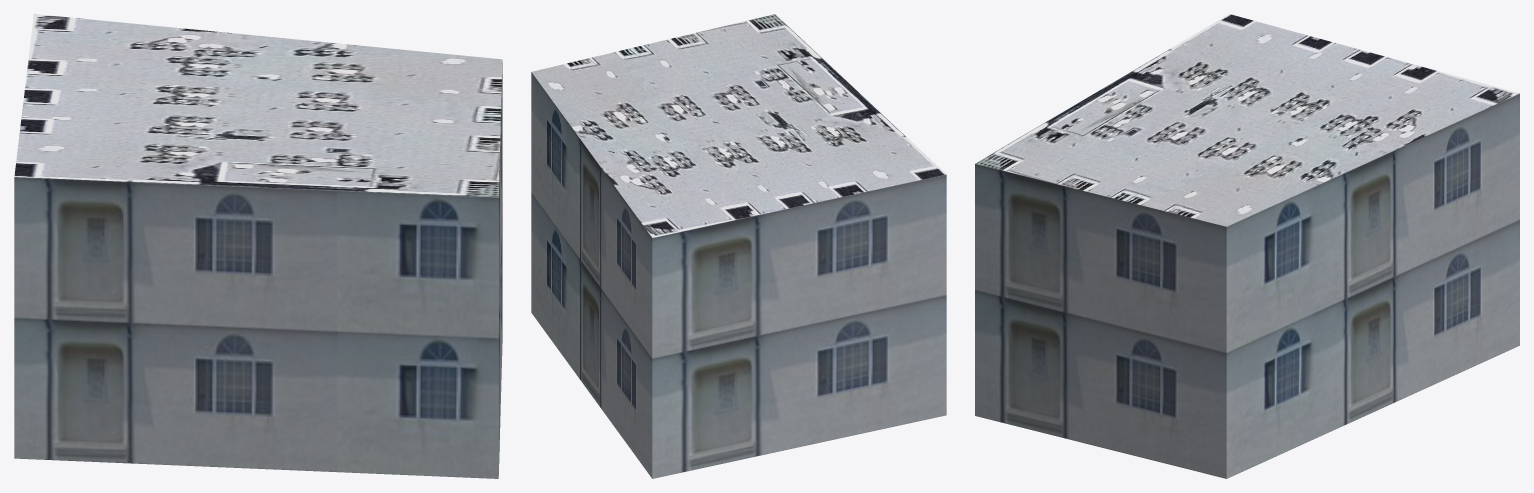
The model's file is ResTex__5026.fbx.
The picture shows the model from 3 angles, left to right: view 1: azimuth 30°, elevation 25°; view 2: azimuth 150°, elevation 25°; view 3: azimuth 270°, elevation 25°; orthographic projection. The views are drawn at different scales.
Visible parts, largest first — view 1: CityEngineMaterial_17_m, CityEngineMaterial_8_m; view 2: CityEngineMaterial_17_m, CityEngineMaterial_8_m; view 3: CityEngineMaterial_17_m, CityEngineMaterial_8_m.
Part boxes in pixels (left/top/right/bottom): CityEngineMaterial_17_m: left=14, top=62, right=502, bottom=478; CityEngineMaterial_8_m: left=14, top=14, right=502, bottom=197; CityEngineMaterial_17_m: left=531, top=72, right=946, bottom=478; CityEngineMaterial_8_m: left=532, top=14, right=946, bottom=237; CityEngineMaterial_17_m: left=975, top=93, right=1519, bottom=478; CityEngineMaterial_8_m: left=975, top=14, right=1519, bottom=226.
Bounding box in the file's own units: 10.85 × 6 × 11.75.
Materials: 2 (2 with a texture image).
